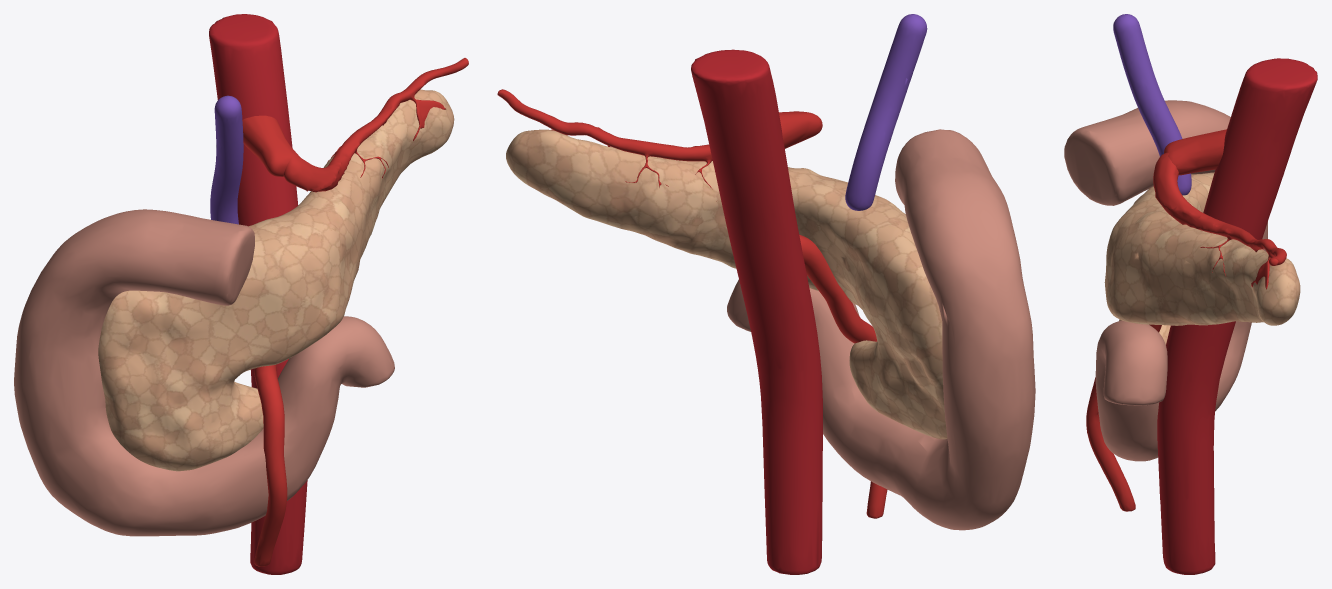
The model's file is pancreas.glb.
3 renders of one model, left to right at view 1: azimuth 30°, elevation 25°; view 2: azimuth 150°, elevation 25°; view 3: azimuth 270°, elevation 25°, orthographic. The views are drawn at different scales.
Visible parts, largest first — view 1: duodeno, parenquima, aorta_abdominal, arteria_esplenica, arteria_mesenterica_superior, vena_porta, tronco_celiaco; view 2: duodeno, parenquima, aorta_abdominal, vena_porta, arteria_mesenterica_superior, arteria_esplenica, tronco_celiaco; view 3: aorta_abdominal, parenquima, duodeno, vena_porta, arteria_esplenica, arteria_mesenterica_superior, tronco_celiaco.
Boxes of the visible parts, left/top/right/bottom form: duodeno: left=14, top=209, right=394, bottom=536; parenquima: left=98, top=89, right=454, bottom=471; aorta_abdominal: left=209, top=14, right=307, bottom=574; arteria_esplenica: left=283, top=58, right=468, bottom=192; arteria_mesenterica_superior: left=254, top=364, right=287, bottom=566; vena_porta: left=210, top=95, right=243, bottom=224; tronco_celiaco: left=242, top=115, right=300, bottom=176; duodeno: left=727, top=129, right=1035, bottom=530; parenquima: left=506, top=129, right=947, bottom=439; aorta_abdominal: left=691, top=49, right=822, bottom=574; vena_porta: left=845, top=14, right=927, bottom=210; arteria_mesenterica_superior: left=799, top=234, right=887, bottom=518; arteria_esplenica: left=497, top=89, right=716, bottom=201; tronco_celiaco: left=779, top=111, right=822, bottom=148; aorta_abdominal: left=1157, top=58, right=1317, bottom=574; parenquima: left=1104, top=172, right=1300, bottom=344; duodeno: left=1064, top=100, right=1267, bottom=461; vena_porta: left=1113, top=14, right=1191, bottom=195; arteria_esplenica: left=1153, top=152, right=1286, bottom=289; arteria_mesenterica_superior: left=1086, top=324, right=1161, bottom=511; tronco_celiaco: left=1164, top=129, right=1226, bottom=175.
Size of the model in its own units: 0.1416 by 0.1463 by 0.0656.
Materials: 7 (1 with a texture image).
